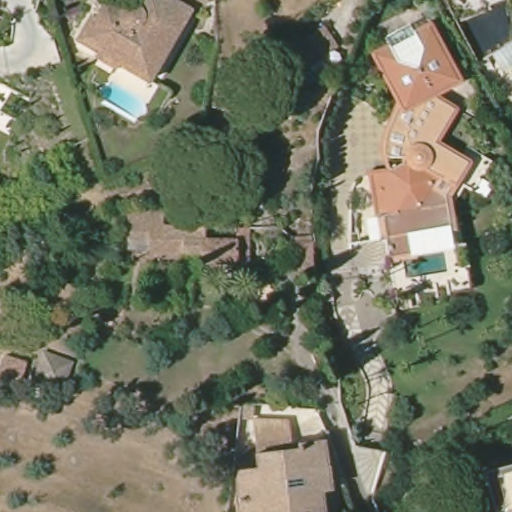pool: (100, 80, 151, 121), (402, 252, 449, 280)
